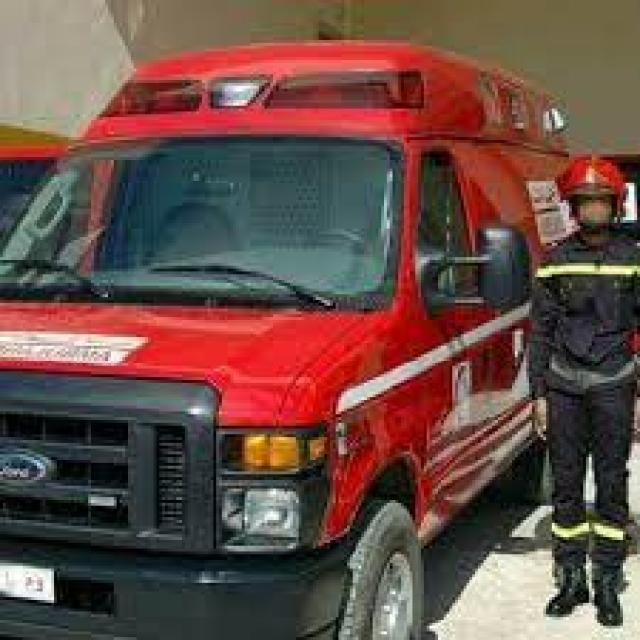ambulance: (5, 22, 640, 640)
